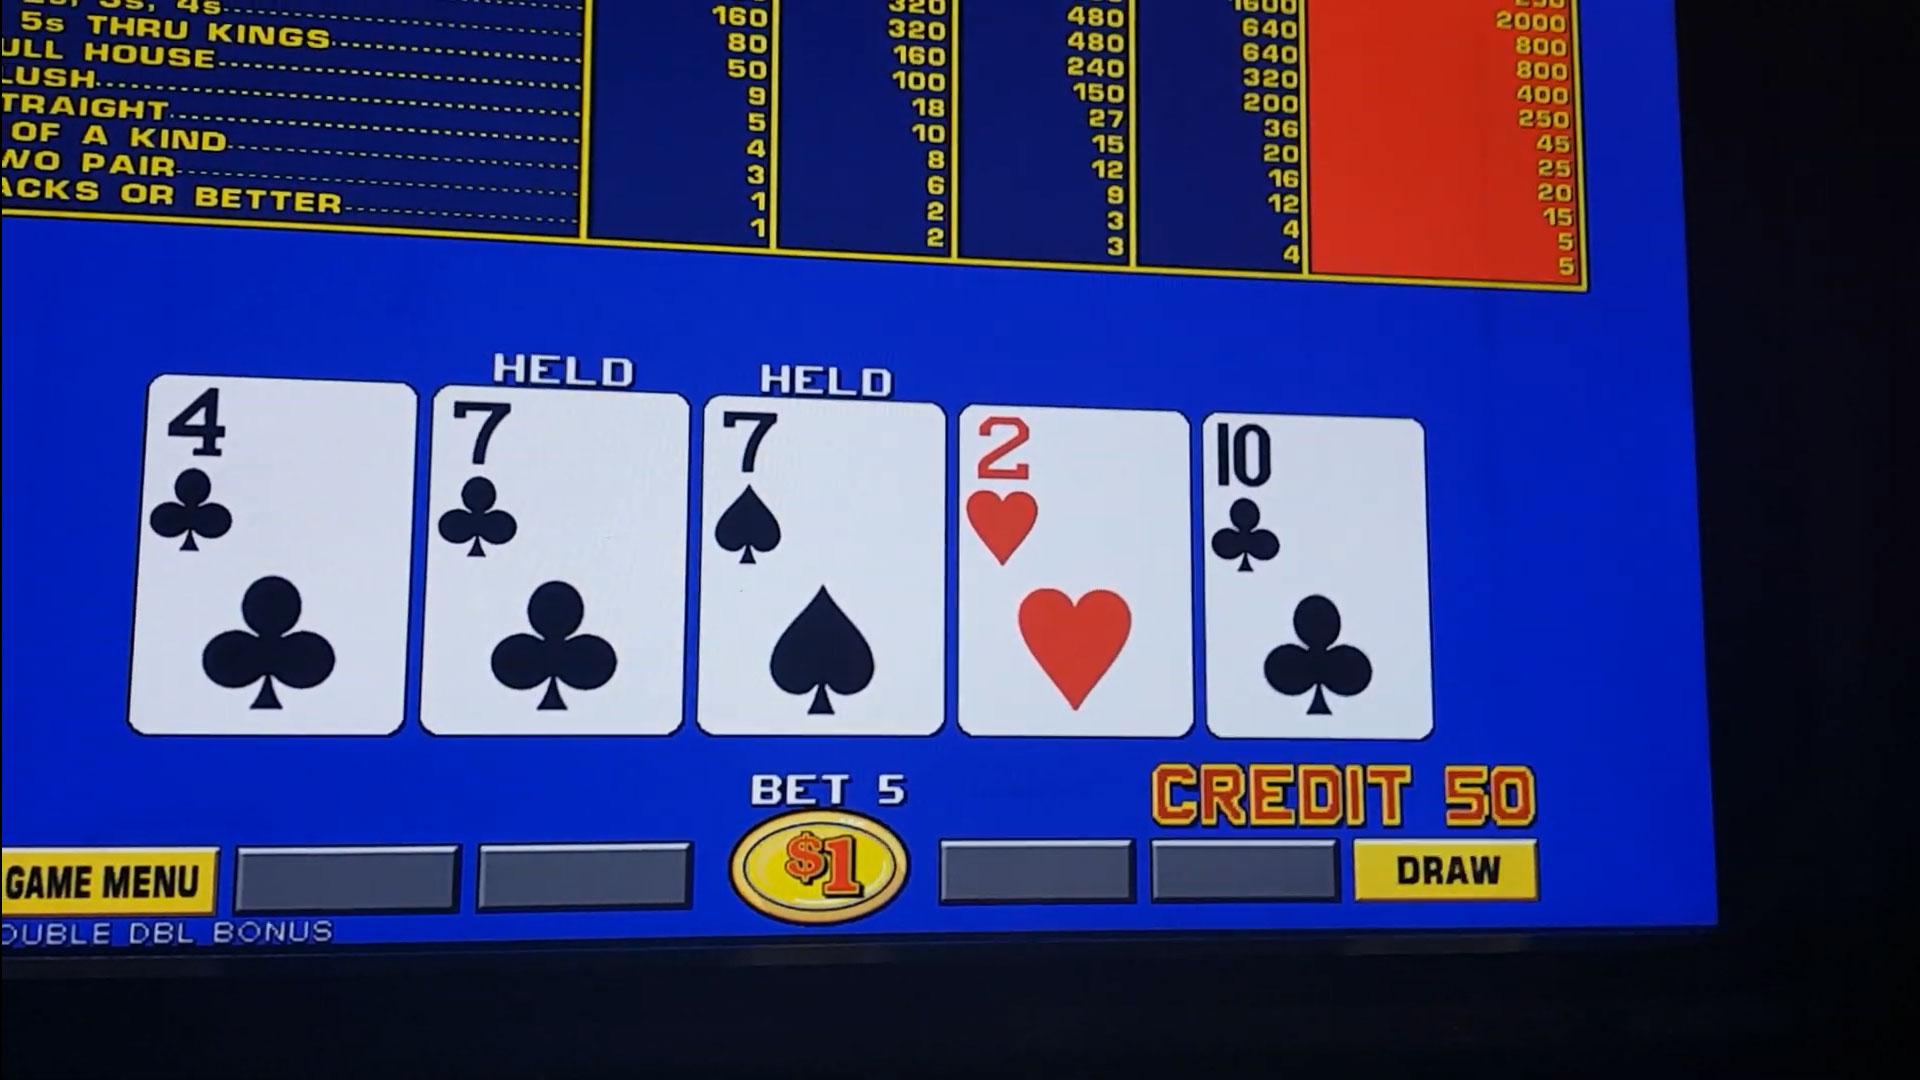C4: (152, 385, 405, 568)
C7: (438, 398, 687, 574)
CT: (1211, 419, 1419, 578)
H2: (967, 410, 1184, 575)
S7: (713, 411, 944, 572)
